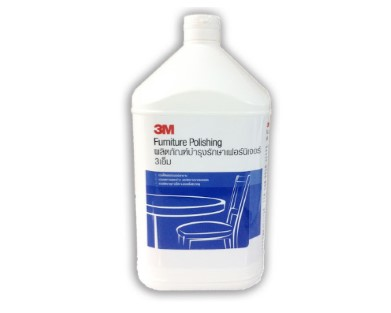Cleaning_solution: (123, 9, 278, 299)
